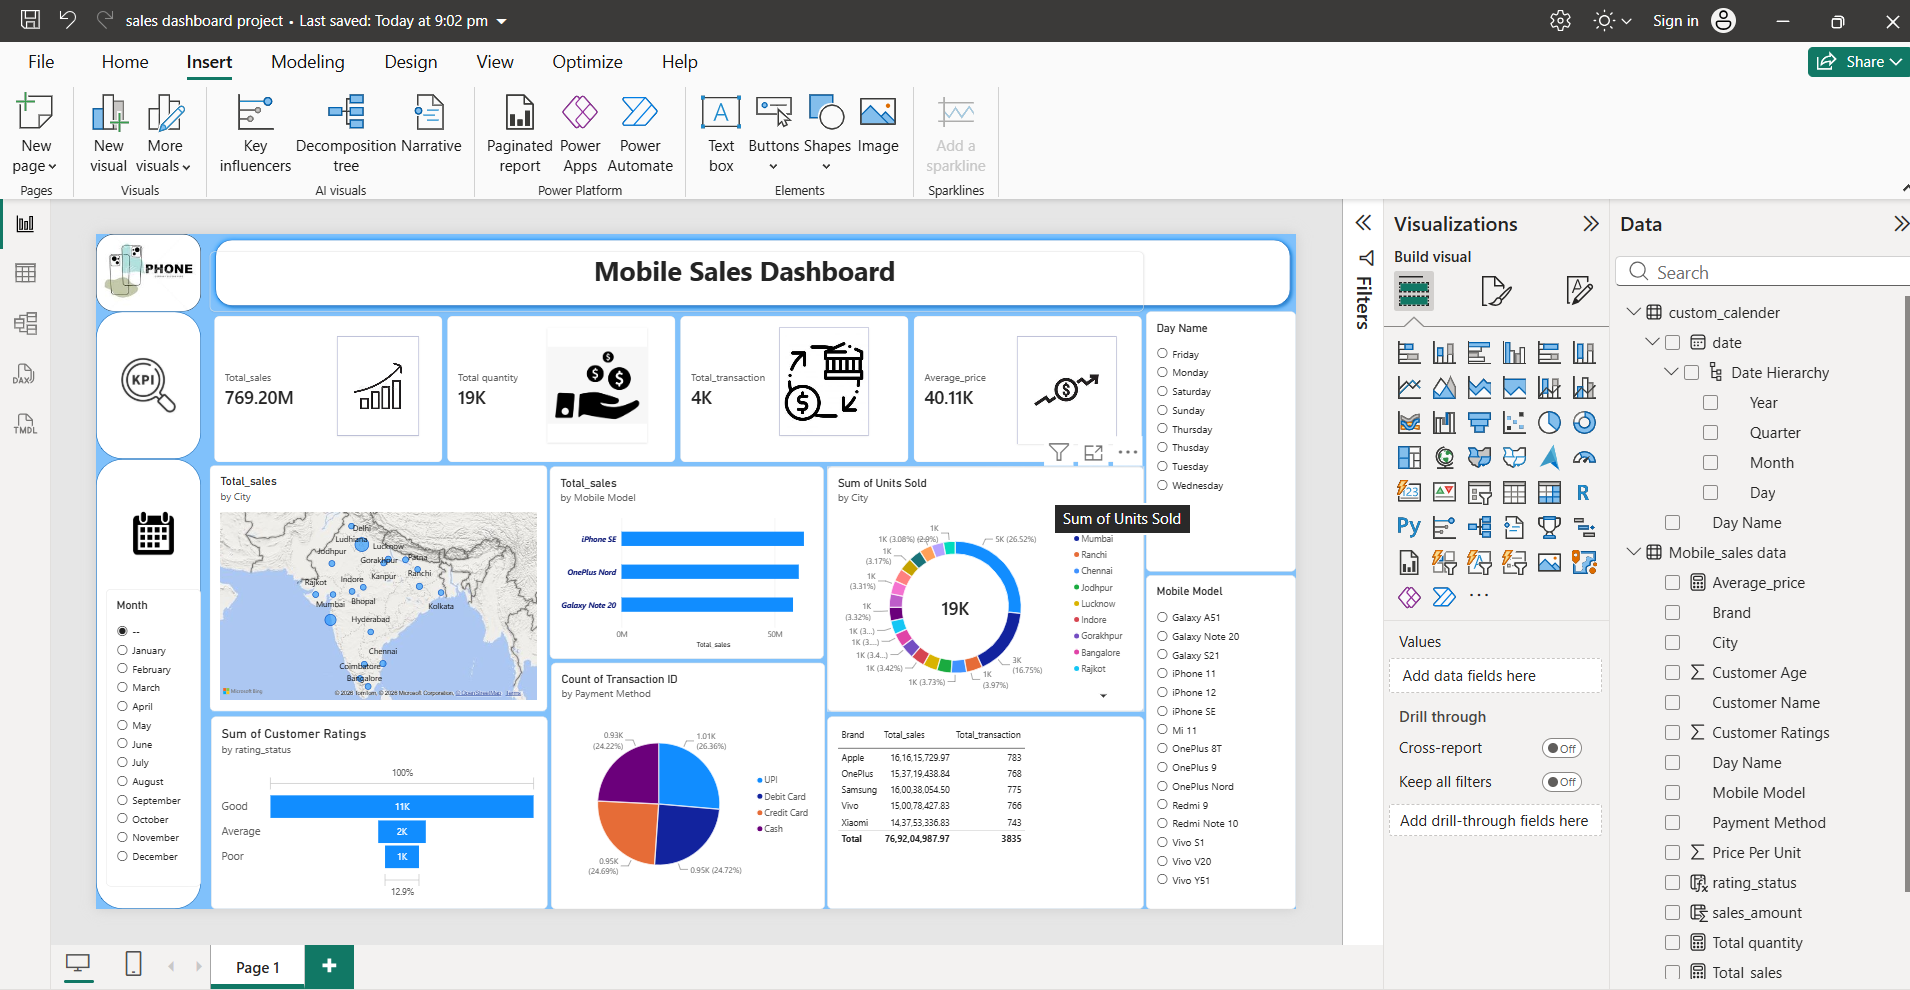

What the dashboard file says about the page in this screenshot:
{"tool":"powerbi","page":{"name":"Page 1","canvas":[1920,1080],"ordinal":0},"visuals":[{"type":"image","box":[0,0,168,124],"z":0},{"type":"shape","box":[0,360,168,720],"z":1000},{"type":"shape","box":[0,124,168,236],"z":2000},{"type":"cardVisual","fields":{"Data":["Mobile_sales data.Total_sales","Mobile_sales data.Total quantity","Mobile_sales data.Total_transaction","Mobile_sales data.Average_price"]},"box":[182,124,1498,248],"z":4000},{"type":"image","box":[386.7,163.3,130,158],"z":5000},{"type":"image","box":[721.7,150,160,184],"z":6000},{"type":"image","box":[1094,150,142,172],"z":7000},{"type":"image","box":[1473.3,163.3,158,172],"z":8000},{"type":"map","fields":{"Category":["Mobile_sales data.City"],"Size":["Mobile_sales data.Total_sales"]},"box":[181.7,370,540,393.3],"z":9000},{"type":"shape","box":[182,0,1738,124],"z":10000},{"type":"textbox","box":[184,770,354,310],"z":11000},{"type":"listSlicer","fields":{"Values":["Mobile_sales data.Mobile Model"]},"box":[1680,546,240,534],"z":13000},{"type":"funnel","fields":{"Category":["Mobile_sales data.rating_status"],"Y":["Sum(Mobile_sales data.Customer Ratings)"]},"box":[183.3,771.7,538.3,308.3],"z":14000},{"type":"pieChart","fields":{"Category":["Mobile_sales data.Payment Method"],"Y":["CountNonNull(Mobile_sales data.Transaction ID)"]},"box":[728.3,686.7,438,394],"z":15000},{"type":"textbox","box":[182,28,1494,96],"z":17000},{"type":"barChart","fields":{"Category":["Mobile_sales data.Mobile Model"],"Y":["Mobile_sales data.Total_sales"]},"box":[726,372,438,308],"z":17001},{"type":"donutChart","fields":{"Category":["Mobile_sales data.City"],"Y":["Sum(Mobile_sales data.Units Sold)"]},"box":[1170,372,506,392],"z":17002},{"type":"tableEx","fields":{"Values":["Mobile_sales data.Brand","Mobile_sales data.Total_sales","Mobile_sales data.Total_transaction"]},"box":[1170,772,506,308],"z":17003},{"type":"listSlicer","fields":{"Values":["Mobile_sales data.Day Name"]},"box":[1680,124,240,416],"z":17004},{"type":"listSlicer","fields":{"Values":["custom_calender.date.Variation.Date Hierarchy.Month"]},"box":[16,568,152,476],"z":17005},{"type":"image","box":[24,390,136,178],"z":17006},{"type":"image","box":[8,150,152,184],"z":17007}]}

Visuals, with their boxes on the page's 1920x1080 design canvas (x1, y1, x2, y2). These are canvas units, not pixel positions in the 1910x990 screenshot, which may show the page scaled, cropped or inside an application window:
image: (left=0, top=0, right=168, bottom=124)
shape: (left=0, top=360, right=168, bottom=1080)
shape: (left=0, top=124, right=168, bottom=360)
cardVisual - Mobile_sales data.Total_sales x Mobile_sales data.Total quantity: (left=182, top=124, right=1680, bottom=372)
image: (left=387, top=163, right=517, bottom=321)
image: (left=722, top=150, right=882, bottom=334)
image: (left=1094, top=150, right=1236, bottom=322)
image: (left=1473, top=163, right=1631, bottom=335)
map - Mobile_sales data.City x Mobile_sales data.Total_sales: (left=182, top=370, right=722, bottom=763)
shape: (left=182, top=0, right=1920, bottom=124)
textbox: (left=184, top=770, right=538, bottom=1080)
listSlicer - Mobile_sales data.Mobile Model: (left=1680, top=546, right=1920, bottom=1080)
funnel - Mobile_sales data.rating_status x Sum(Mobile_sales data.Customer Ratings): (left=183, top=772, right=722, bottom=1080)
pieChart - Mobile_sales data.Payment Method x CountNonNull(Mobile_sales data.Transaction ID): (left=728, top=687, right=1166, bottom=1081)
textbox: (left=182, top=28, right=1676, bottom=124)
barChart - Mobile_sales data.Mobile Model x Mobile_sales data.Total_sales: (left=726, top=372, right=1164, bottom=680)
donutChart - Mobile_sales data.City x Sum(Mobile_sales data.Units Sold): (left=1170, top=372, right=1676, bottom=764)
tableEx - Mobile_sales data.Brand x Mobile_sales data.Total_sales: (left=1170, top=772, right=1676, bottom=1080)
listSlicer - Mobile_sales data.Day Name: (left=1680, top=124, right=1920, bottom=540)
listSlicer - custom_calender.date.Variation.Date Hierarchy.Month: (left=16, top=568, right=168, bottom=1044)
image: (left=24, top=390, right=160, bottom=568)
image: (left=8, top=150, right=160, bottom=334)
